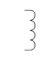inductor: (21, 7, 39, 50)
